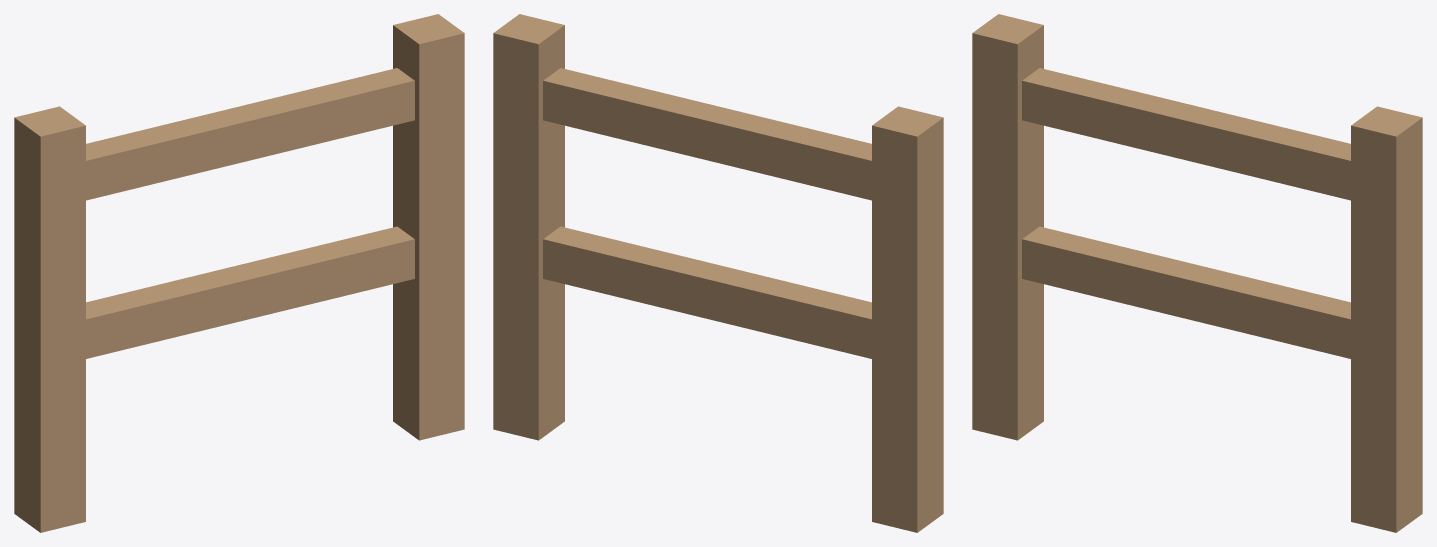
File: Prop_DS_Fence_Seg_08.glb
3 views of the same model, side by side, from view 1: azimuth 30°, elevation 25°; view 2: azimuth 150°, elevation 25°; view 3: azimuth 330°, elevation 25° (orthographic).
Visible parts, largest first — view 1: Cube, Cube.001, Cube.003, Cube.002; view 2: Cube, Cube.001, Cube.003, Cube.002; view 3: Cube.001, Cube, Cube.003, Cube.002.
Part boxes in pixels (x1,y1,x2,y2): Cube: [14, 106, 85, 532]; Cube.001: [393, 14, 464, 440]; Cube.003: [86, 68, 414, 200]; Cube.002: [86, 226, 414, 358]; Cube: [872, 106, 943, 532]; Cube.001: [493, 14, 564, 440]; Cube.003: [543, 68, 871, 200]; Cube.002: [543, 226, 871, 358]; Cube.001: [1351, 106, 1422, 532]; Cube: [972, 14, 1043, 440]; Cube.003: [1022, 68, 1350, 200]; Cube.002: [1022, 226, 1350, 358].
Size of the model in its own units: 1.12 by 1 by 0.12.
